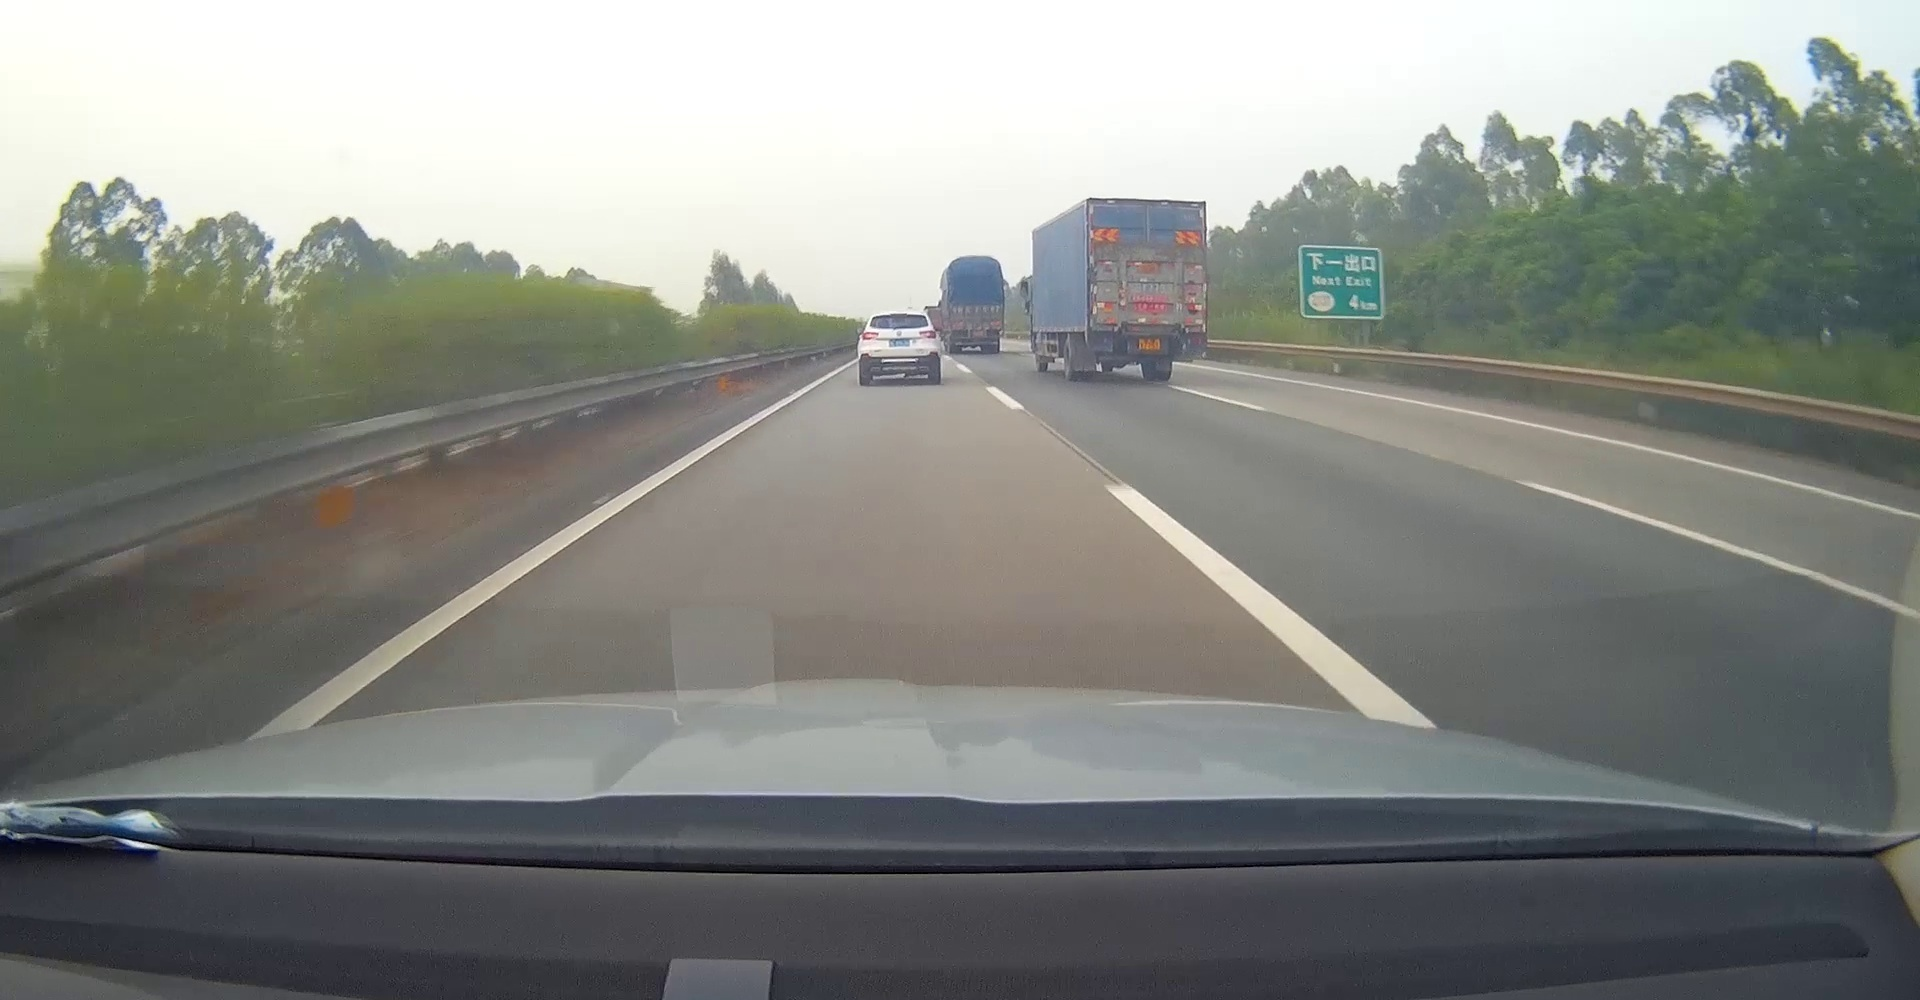L_light: (1092, 335, 1111, 345), (861, 331, 879, 341)
R_light: (1187, 335, 1208, 345), (918, 330, 936, 339)
T_light: (1139, 203, 1157, 209), (891, 313, 907, 317)
day-no: (1084, 195, 1209, 382), (858, 311, 941, 386)
